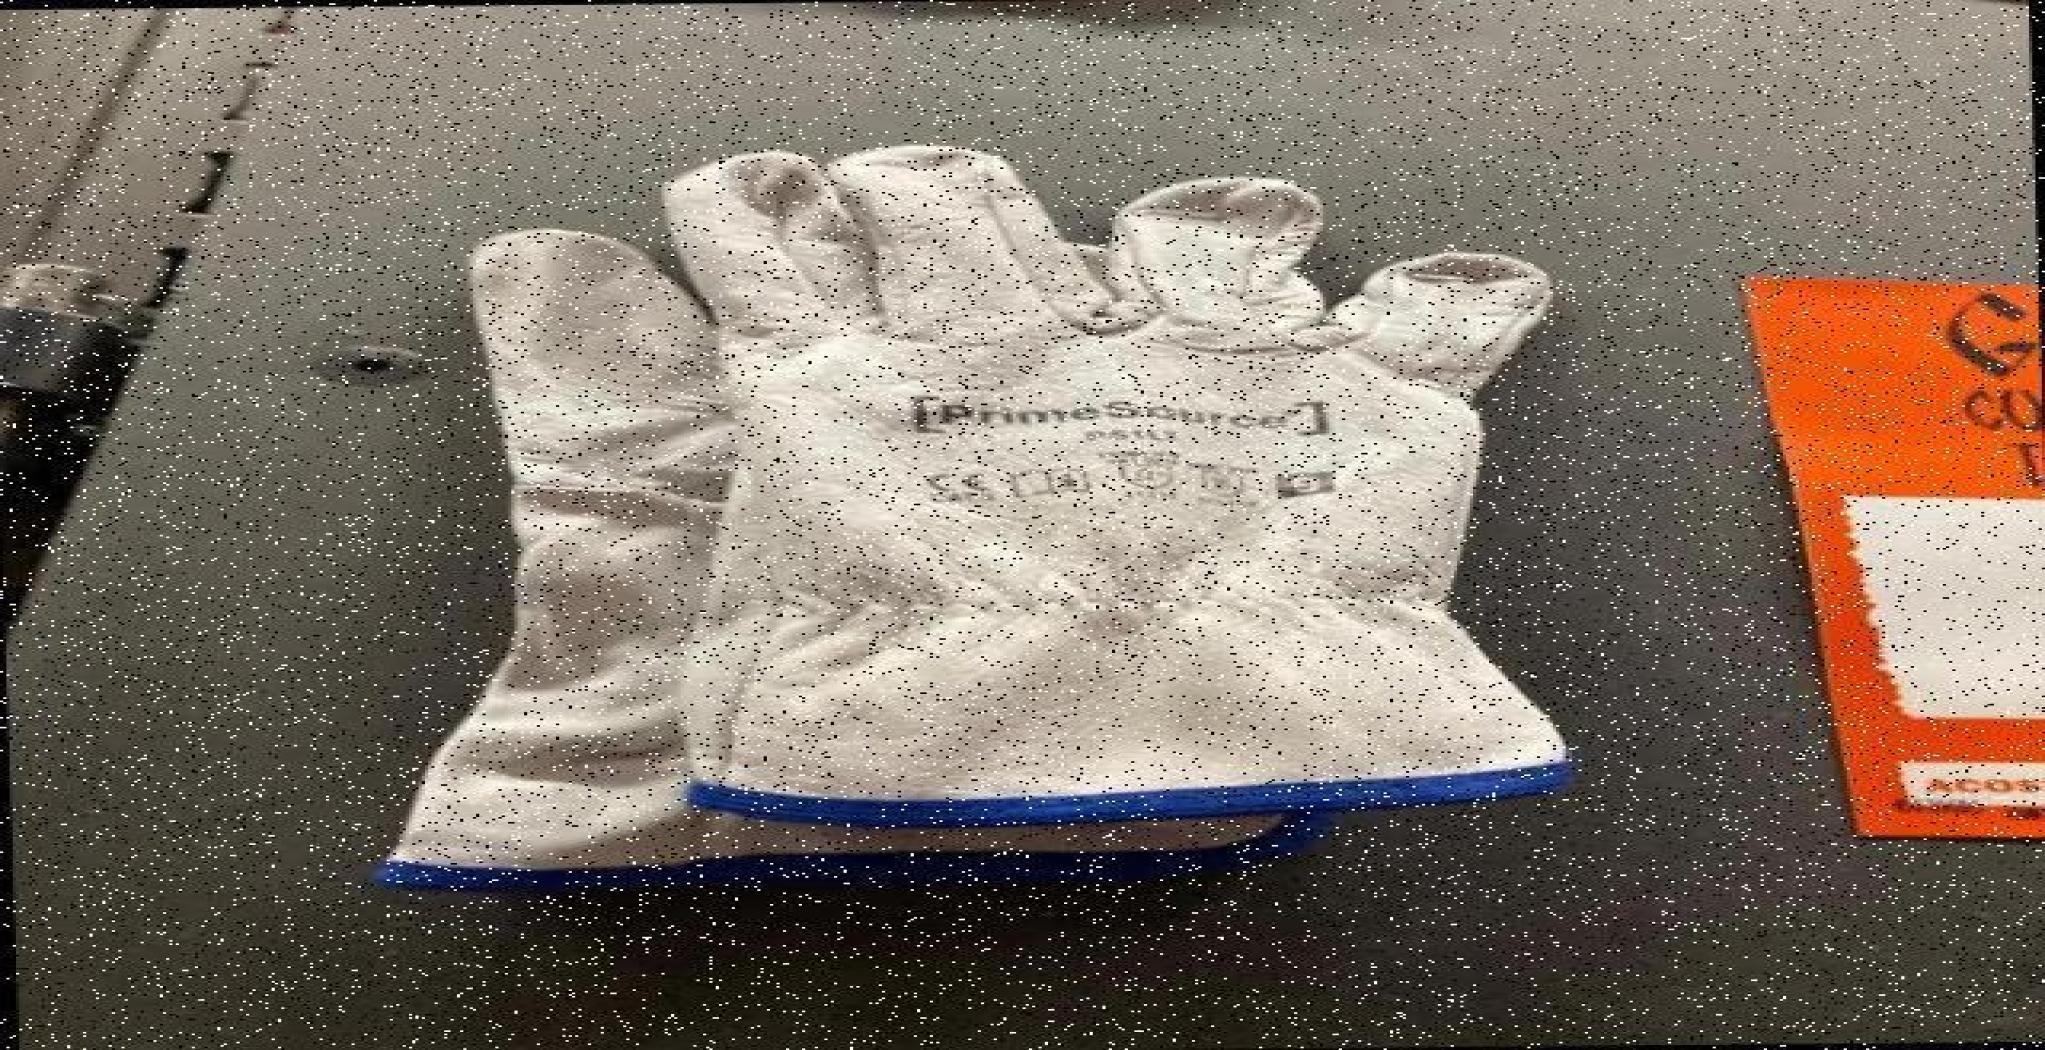gloved: (387, 151, 1619, 911)
